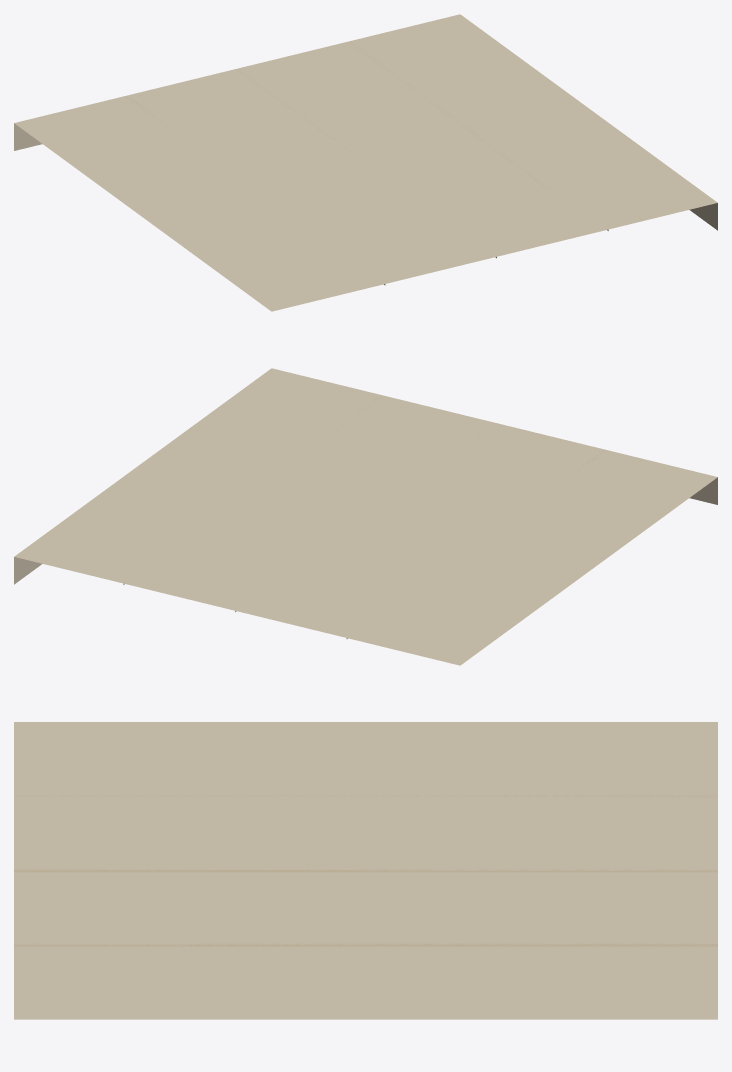
The model's file is deck_slab.glb.
The picture shows the model from 3 angles, top to bottom: view 1: azimuth 30°, elevation 25°; view 2: azimuth 150°, elevation 25°; view 3: azimuth 270°, elevation 25°; orthographic projection. The views are drawn at different scales.
Bounding box in the file's own units: 1 × 0.06 × 1.
